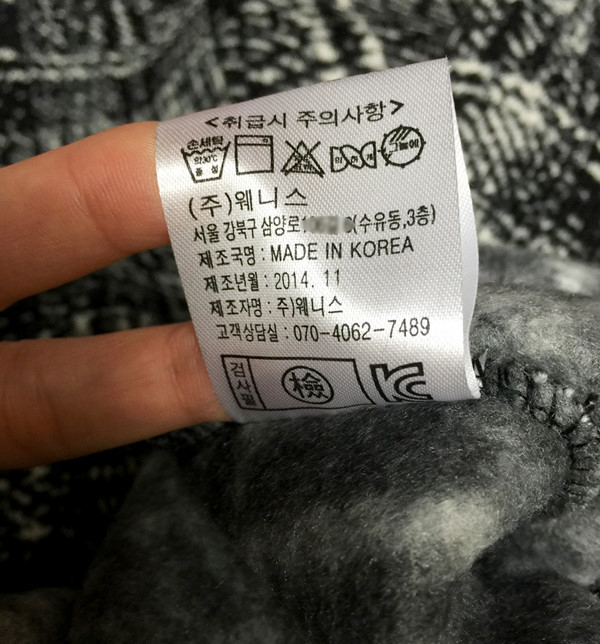KR_gentle_wring: (327, 141, 379, 175)
KR_hand_wash_30_neutral: (177, 133, 231, 184)
KR_no_chlorine_bleach: (278, 136, 325, 179)
